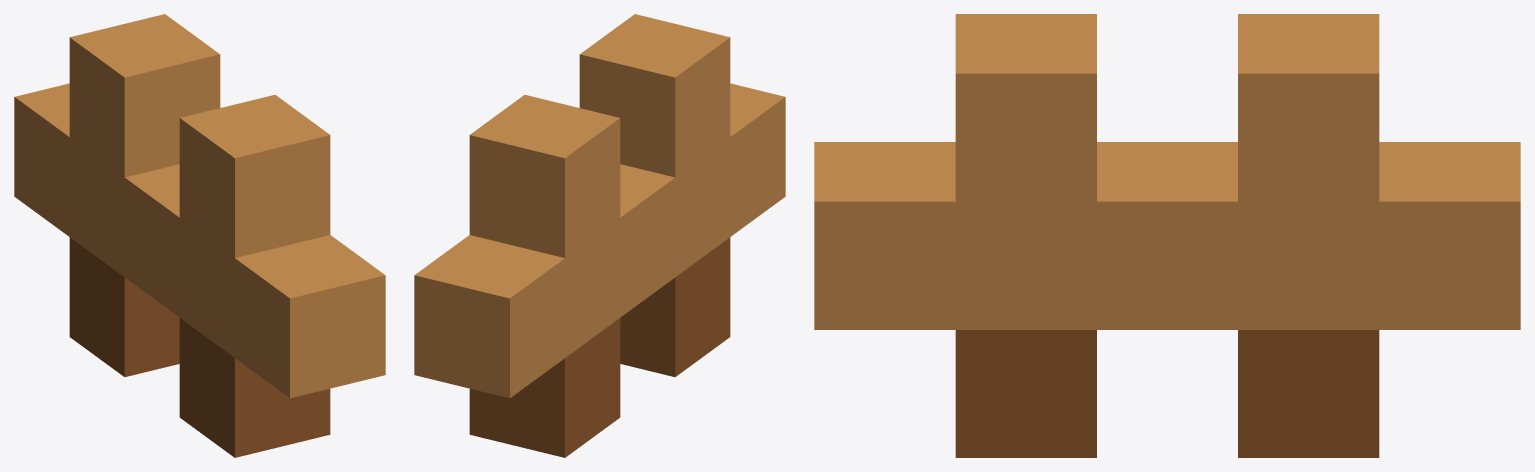
Rendered from fence.obj.
3 renders of one model, left to right at view 1: azimuth 30°, elevation 25°; view 2: azimuth 150°, elevation 25°; view 3: azimuth 270°, elevation 25°, orthographic. The views are drawn at different scales.
Size of the model in its own units: 0.1 by 0.3 by 0.5.
Materials: 1 (1 with a texture image).
